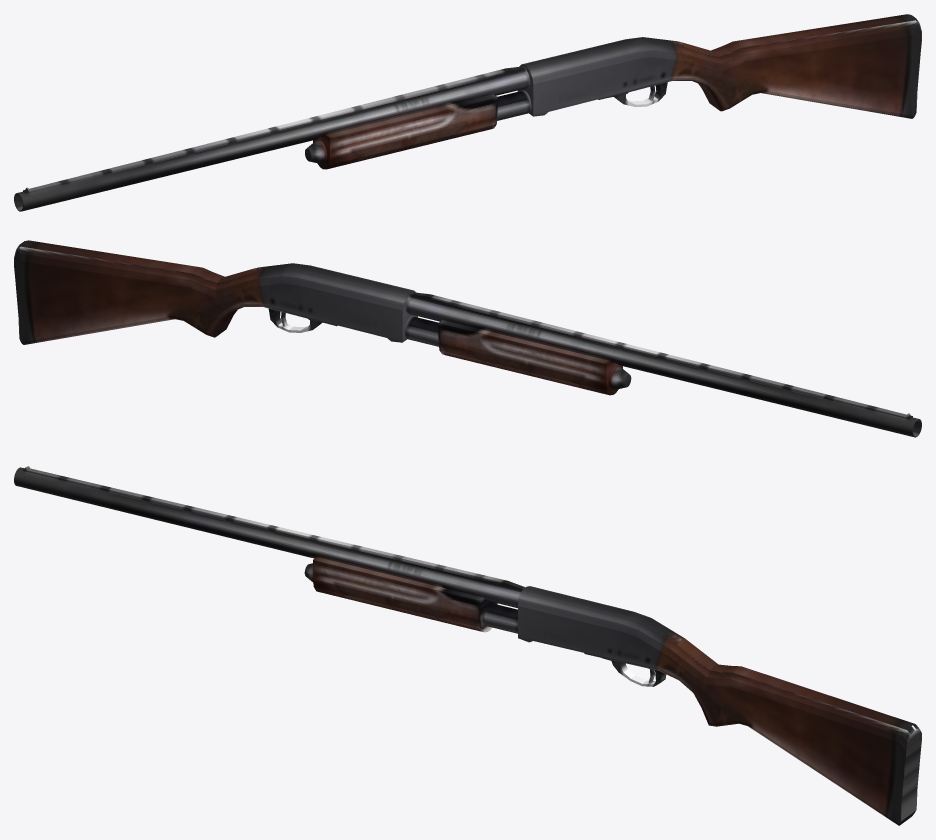
File: r870_shot_gun.glb
The picture shows the model from 3 angles, top to bottom: view 1: azimuth 30°, elevation 25°; view 2: azimuth 150°, elevation 25°; view 3: azimuth 330°, elevation 25°; orthographic projection.
Parts seen in each view (by area): view 1: Vert; view 2: Vert; view 3: Vert.
Boxes of the visible parts, bbox=[...] form: Vert: bbox=[14, 14, 921, 211]; Vert: bbox=[14, 240, 921, 437]; Vert: bbox=[14, 466, 921, 825].
Size of the model in its own units: 1.68 by 0.2556 by 0.0549.
Materials: 1 (1 with a texture image).
